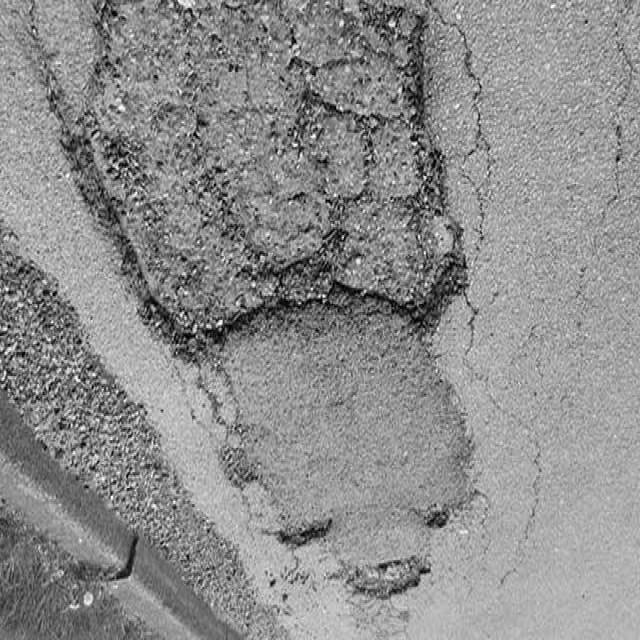jalan retak: (568, 34, 640, 324), (464, 408, 546, 606), (450, 314, 513, 404), (345, 605, 413, 640)
lubang: (61, 0, 479, 357), (335, 544, 439, 619), (262, 506, 344, 566), (218, 430, 268, 496), (417, 484, 460, 546)
